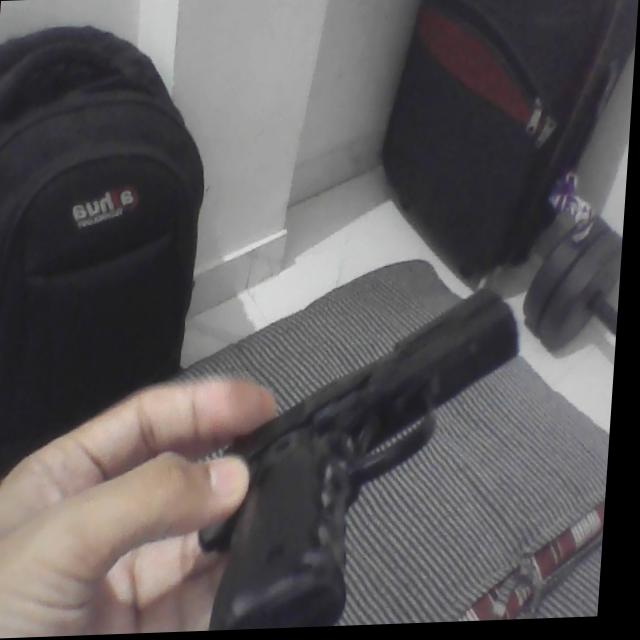handgun: (198, 289, 528, 633)
